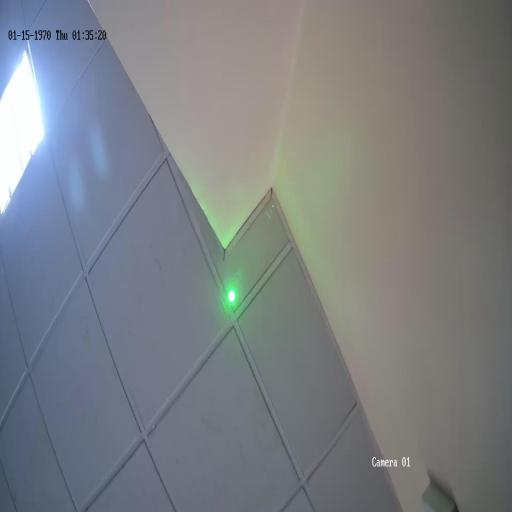laser: (220, 274, 242, 318)
